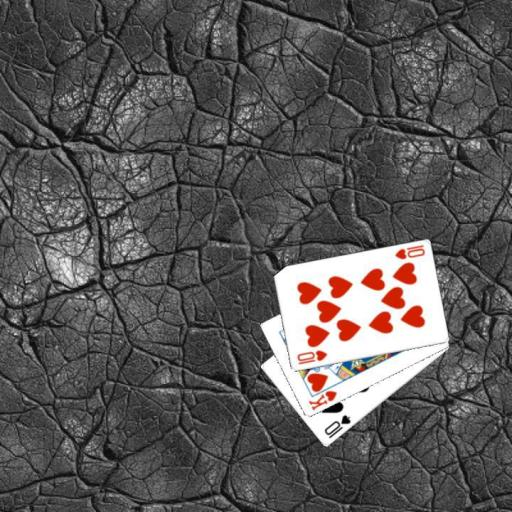10H: (294, 347, 329, 366), (391, 242, 426, 261)
10S: (321, 412, 352, 440)
KH: (305, 388, 339, 413)
